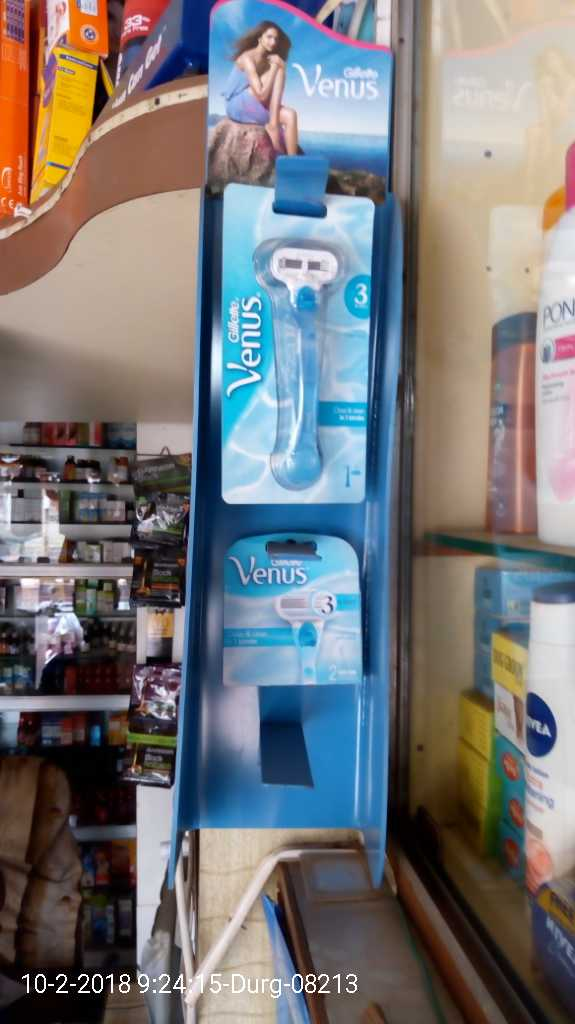venus: (217, 175, 370, 508), (227, 528, 375, 692)
